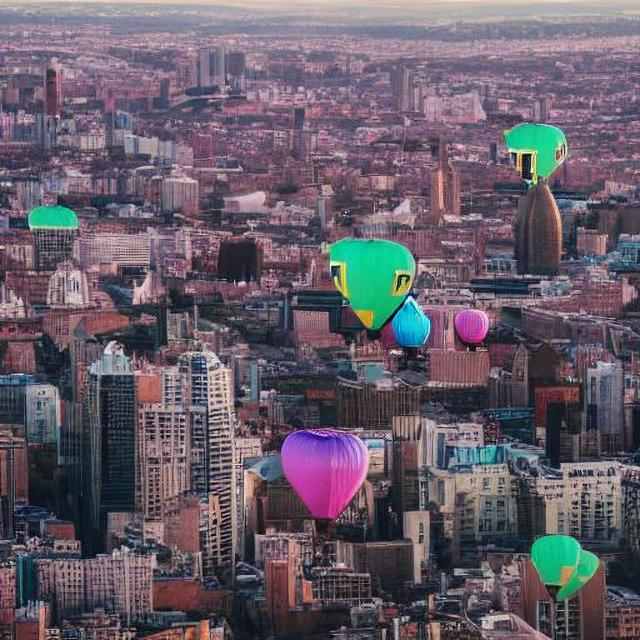balloon: (326, 236, 435, 355), (279, 427, 369, 519), (527, 532, 602, 600), (502, 120, 568, 185), (448, 306, 490, 352), (24, 201, 84, 232)
